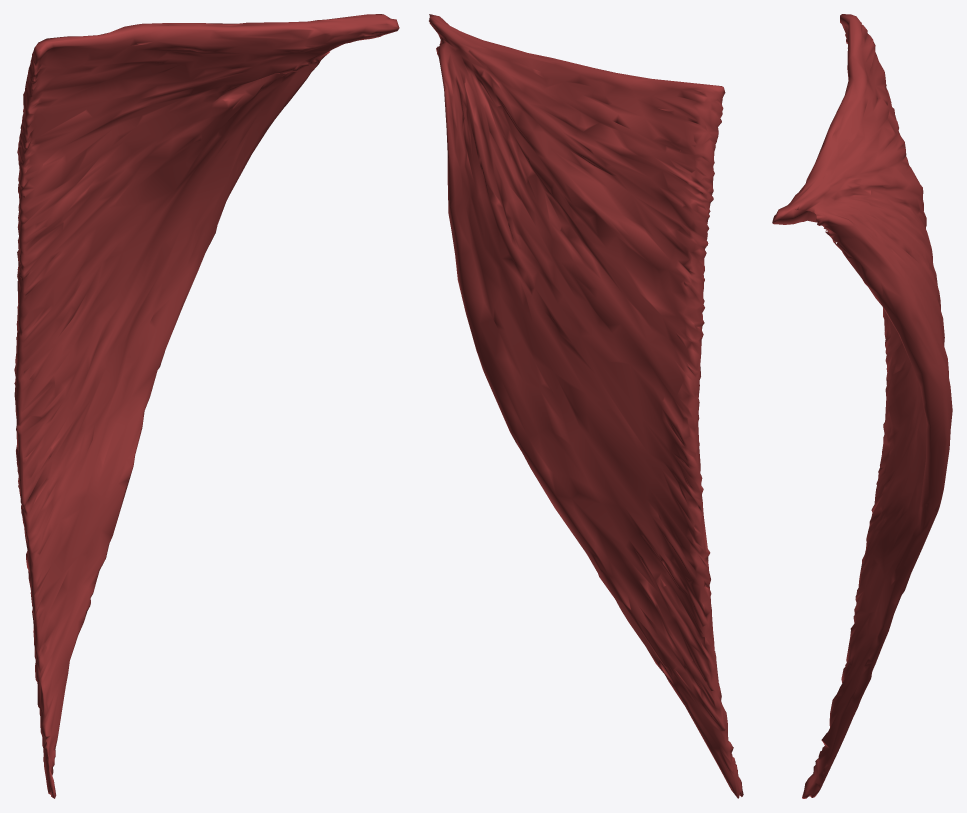
The model's file is descending-part-of-trapezius-muscle-l.glb.
3 views of the same model, side by side, from view 1: azimuth 30°, elevation 25°; view 2: azimuth 150°, elevation 25°; view 3: azimuth 270°, elevation 25° (orthographic). The views are drawn at different scales.
Parts seen in each view (by area): view 1: Descending part of trapezius muscle.l; view 2: Descending part of trapezius muscle.l; view 3: Descending part of trapezius muscle.l.
Part boxes in pixels (box(x1,y1,x2,y2)): Descending part of trapezius muscle.l: box(14, 14, 399, 798); Descending part of trapezius muscle.l: box(429, 14, 743, 798); Descending part of trapezius muscle.l: box(772, 14, 952, 798).
Bounding box in the file's own units: 0.1388 × 0.2942 × 0.061.
